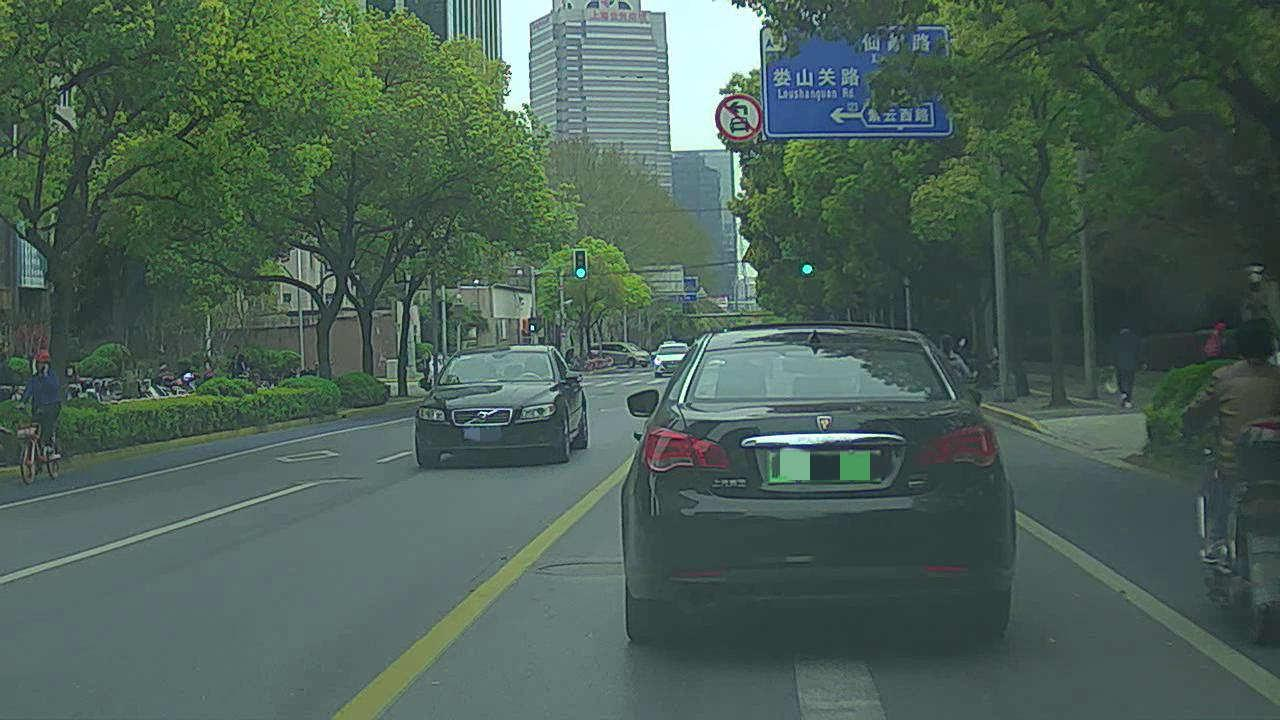traffic_light: (573, 248, 591, 278)
